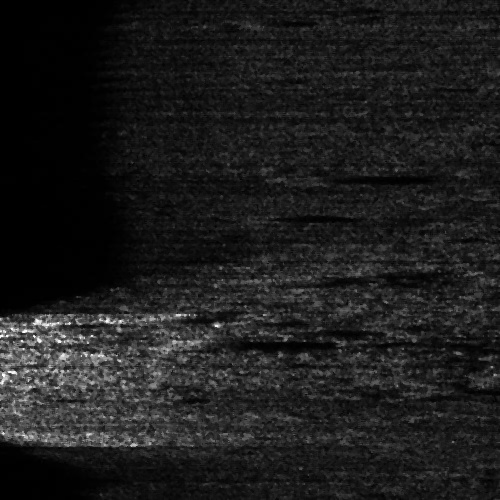object: (146, 337, 251, 350), (226, 212, 279, 219)
shadow: (198, 337, 332, 350), (253, 212, 366, 219), (322, 175, 464, 178)
